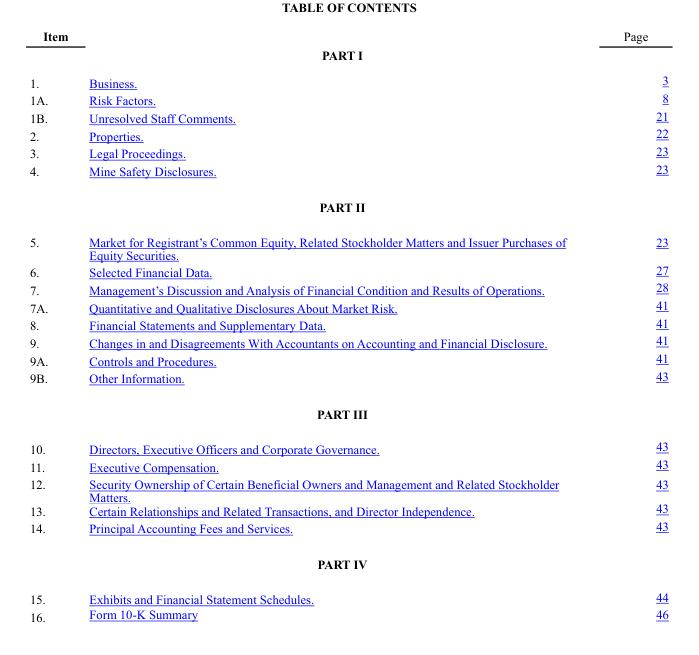table: (28, 28, 667, 623)
table column: (77, 28, 593, 623), (593, 28, 667, 623), (28, 28, 77, 623)
table column header: (28, 28, 667, 67)
table row: (28, 28, 667, 67), (28, 224, 667, 261), (28, 188, 667, 224), (28, 545, 667, 580), (28, 395, 667, 429), (28, 160, 667, 188), (28, 367, 667, 395), (28, 429, 667, 456), (28, 475, 667, 502), (28, 518, 667, 545), (28, 580, 667, 606), (28, 67, 667, 90), (28, 456, 667, 475), (28, 107, 667, 125), (28, 125, 667, 143), (28, 261, 667, 279), (28, 279, 667, 297), (28, 314, 667, 332), (28, 332, 667, 350), (28, 90, 667, 107), (28, 143, 667, 160), (28, 297, 667, 314), (28, 350, 667, 367), (28, 606, 667, 623), (28, 502, 667, 518)
table spanning cell: (28, 160, 77, 224), (28, 367, 77, 429), (28, 518, 77, 580)
